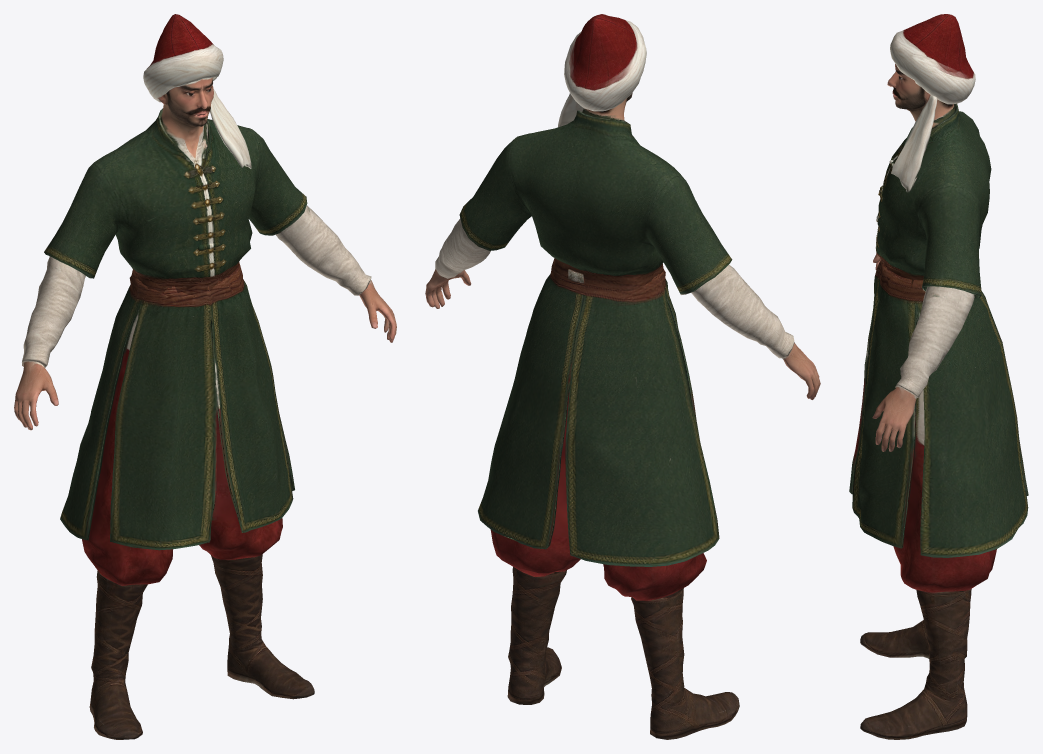
File: Meshy_AI_model.glb
3 views of the same model, side by side, from view 1: azimuth 30°, elevation 25°; view 2: azimuth 150°, elevation 25°; view 3: azimuth 270°, elevation 25° (orthographic). The views are drawn at different scales.
Size of the model in its own units: 0.5842 by 1 by 0.2412.
Materials: 1 (1 with a texture image).
